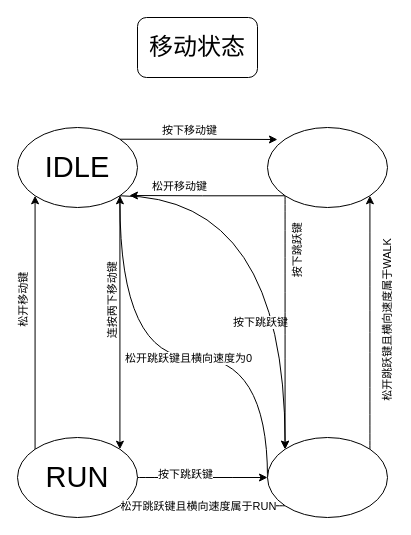
This 411x535 diagram has some shape labels left out. The centre of each missing label's shape, as x and y in pixels:
JUMP: the point at 327,477
WALK: the point at 327,167
